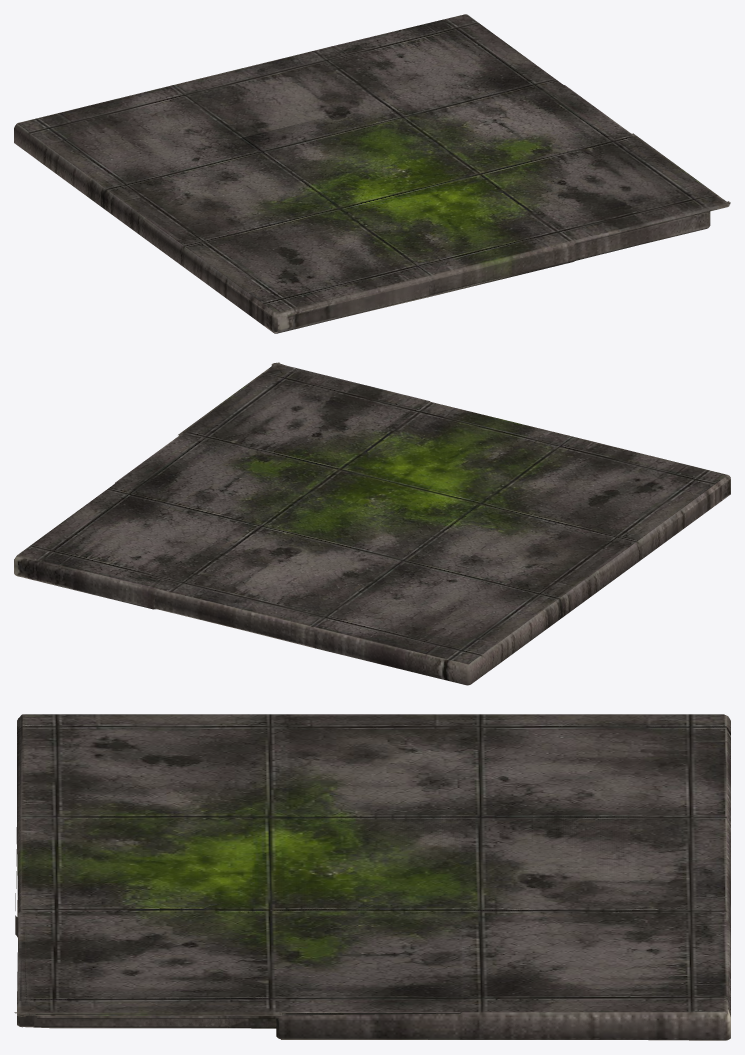
The model's file is Concrete_large_Floor_2.glb.
3 renders of one model, top to bottom at view 1: azimuth 30°, elevation 25°; view 2: azimuth 150°, elevation 25°; view 3: azimuth 270°, elevation 25°, orthographic. The views are drawn at different scales.
Size of the model in its own units: 1.91 by 0.0822 by 1.91.
1 material, 1 textured.
